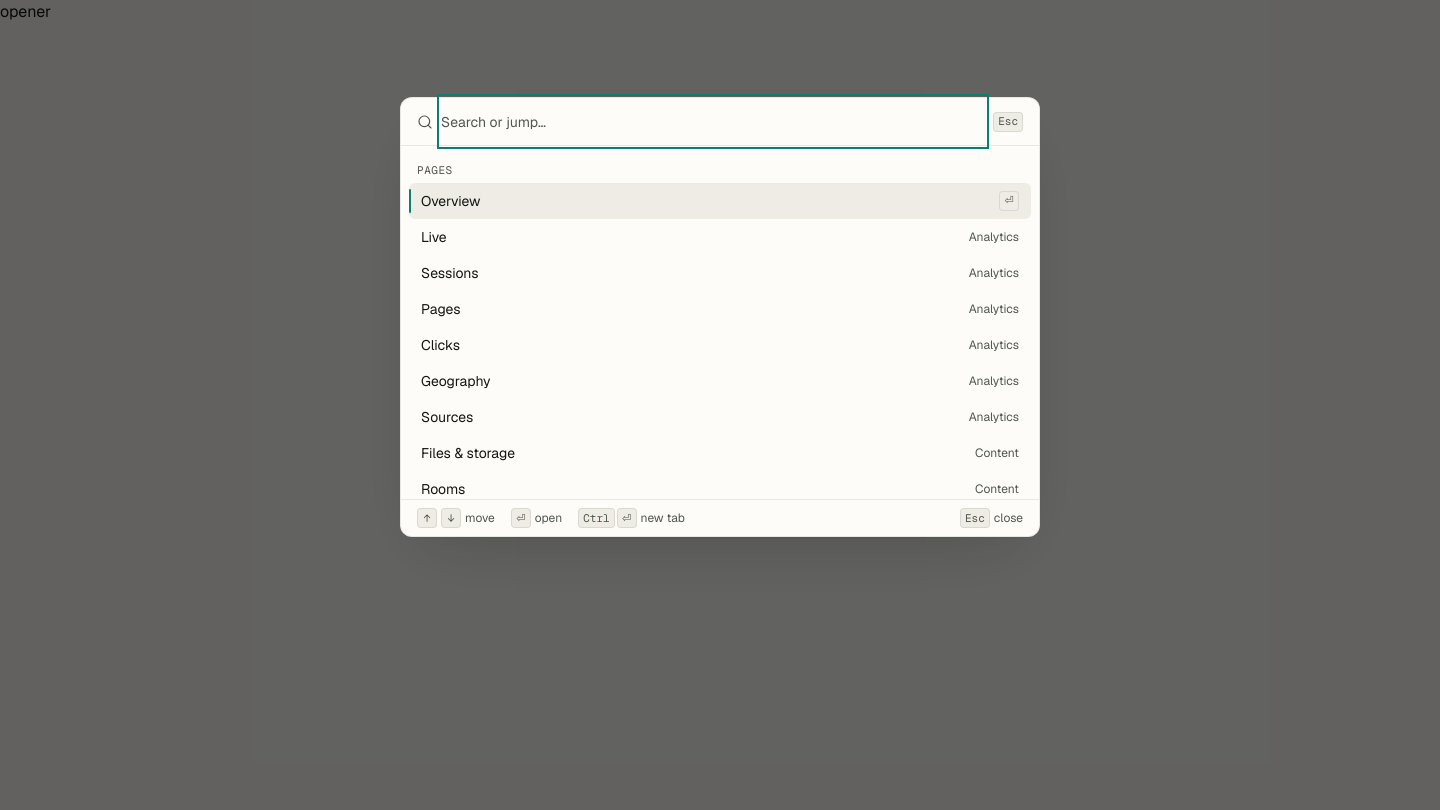
Test case: CommandPalette › rate limited and failed searches say so; pages still work
Type "ab7kq2mz" into the dropdown.
click(713, 122); type("ab7kq2mz")  # box [441,98,985,145]
Wait 250 ms
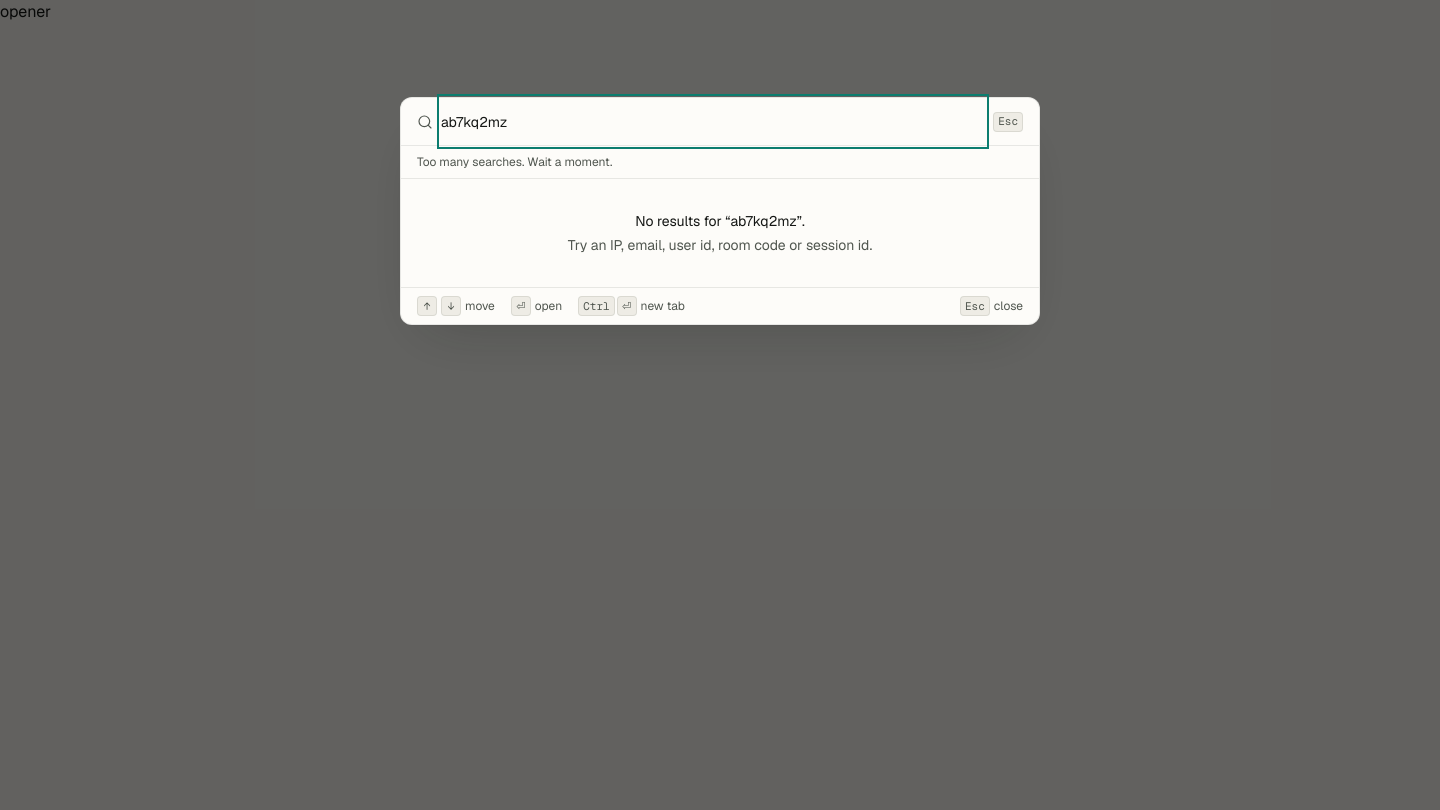
expect the text "Too many searches. Wait a moment." is shown: met, box [417,154,612,170]
Replace the text in the dropdown with "ab7kq2mx" at (713, 122), box [441,98,985,145]
Wait 250 ms
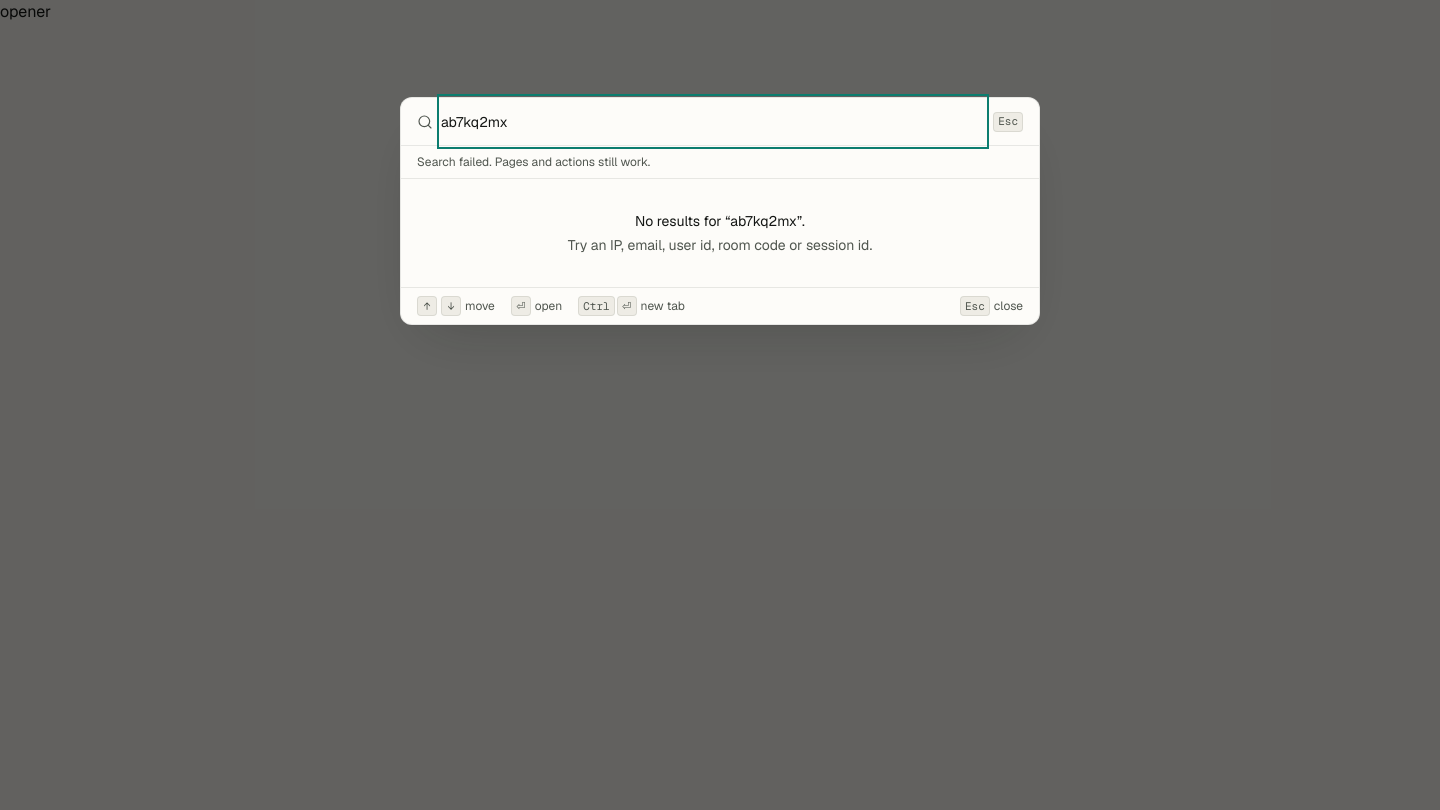
expect the text "Search failed. Pages and actions still work." is shown: met, box [417,154,650,170]
